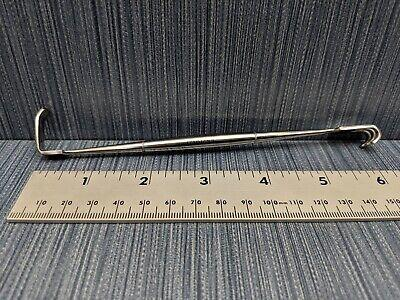Senn Retractor: (29, 101, 381, 161)
